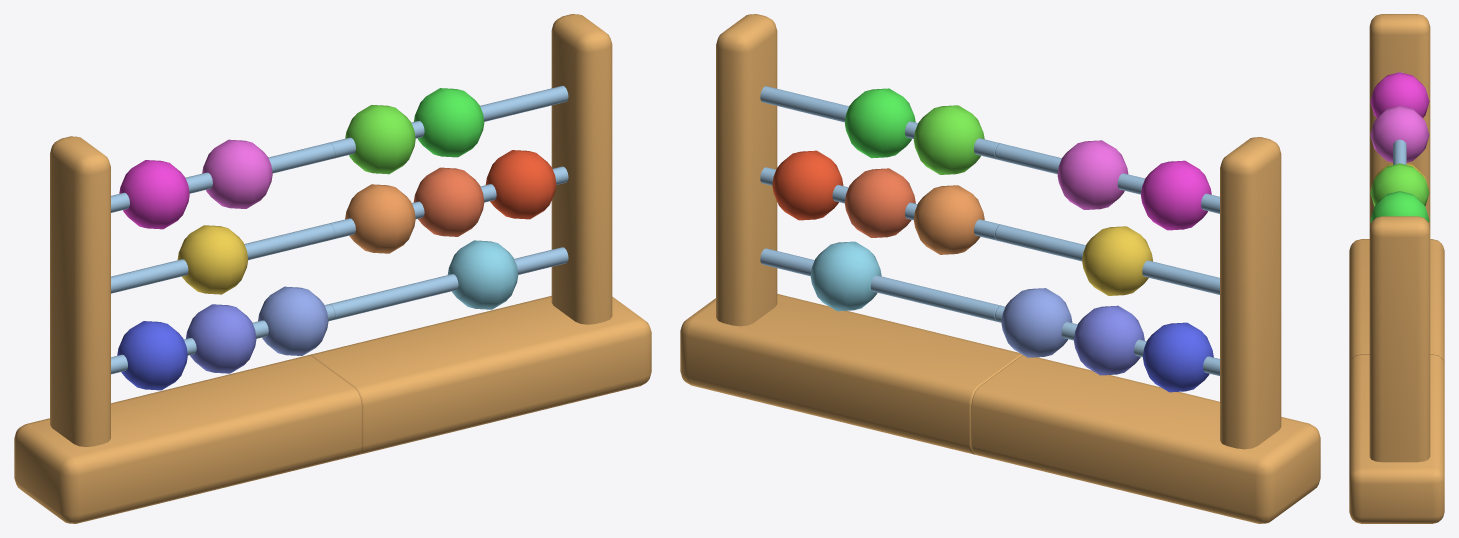
File: SM_Abacus_01a.fbx
The picture shows the model from 3 angles, left to right: view 1: azimuth 30°, elevation 25°; view 2: azimuth 150°, elevation 25°; view 3: azimuth 270°, elevation 25°; orthographic projection. The views are drawn at different scales.
Visible parts, largest first — view 1: Abacus_02, Abacus_01; view 2: Abacus_02, Abacus_01; view 3: Abacus_01, Abacus_02.
Boxes of the visible parts, x1,y1,x2,y2 form: Abacus_02: [14, 136, 361, 523]; Abacus_01: [308, 14, 651, 454]; Abacus_02: [971, 137, 1320, 523]; Abacus_01: [680, 14, 1022, 454]; Abacus_01: [1349, 163, 1444, 523]; Abacus_02: [1349, 14, 1444, 363].
Size of the model in its own units: 29.23 by 16.65 by 4.96.
